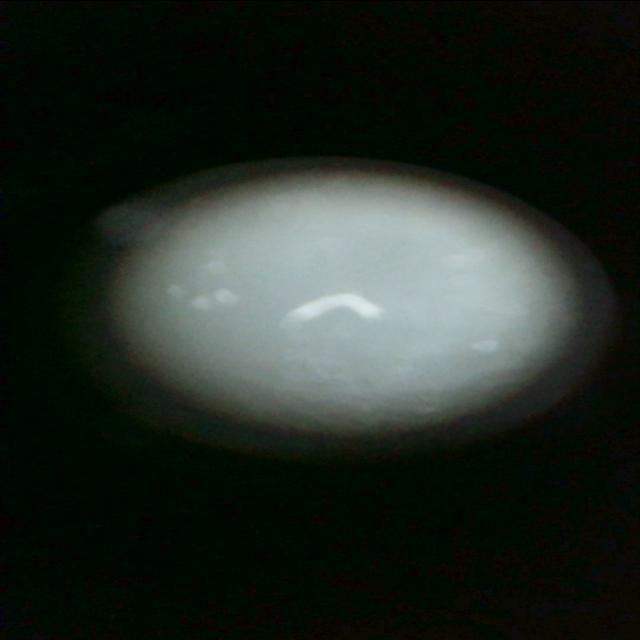psudo-nitzschia: (284, 294, 388, 322)
